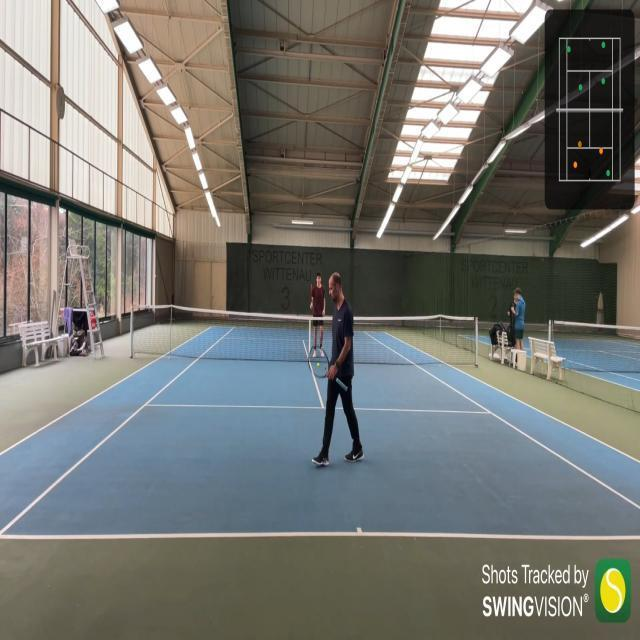court: (0, 326, 640, 542)
net: (128, 311, 481, 363)
player: (308, 272, 364, 466)
